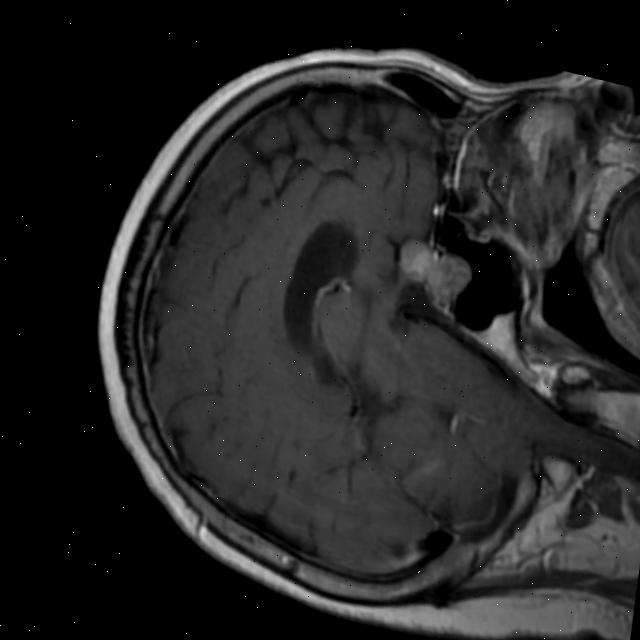Pituitary: (388, 235, 480, 310)
